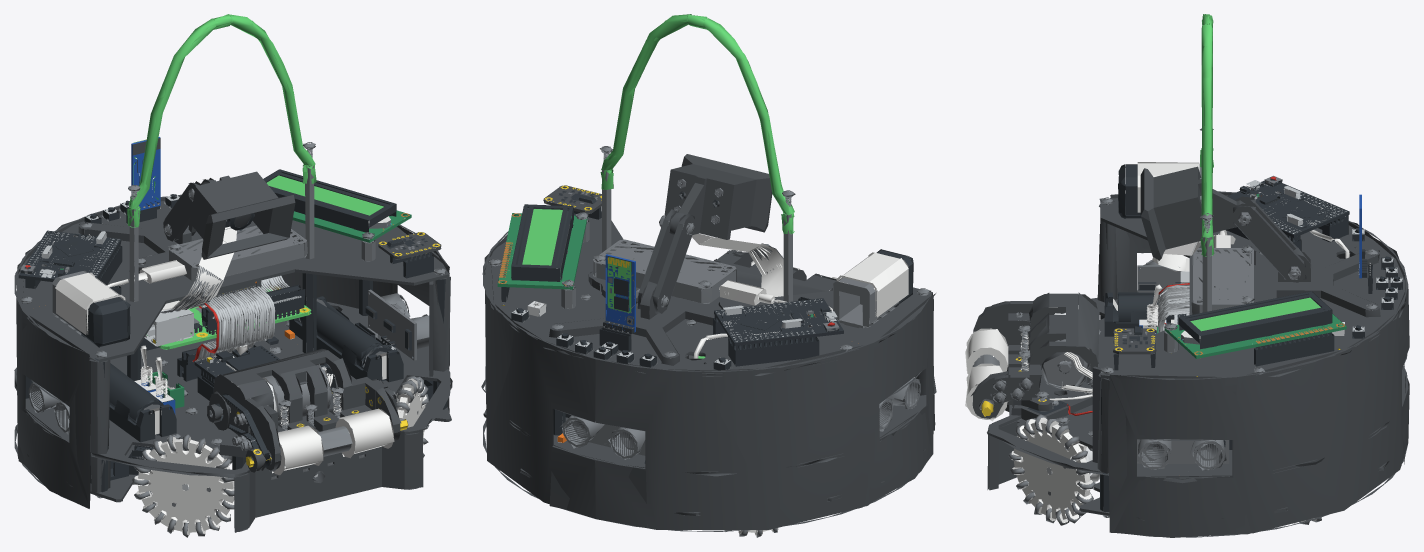
Rendered from xlc-open-2020.glb.
The picture shows the model from 3 angles, left to right: view 1: azimuth 30°, elevation 25°; view 2: azimuth 150°, elevation 25°; view 3: azimuth 270°, elevation 25°; orthographic projection. The views are drawn at different scales.
Visible parts, largest first — view 1: Robot visual; view 2: Robot visual; view 3: Robot visual.
Part boxes in pixels (bbox=[...]): Robot visual: bbox=[14, 14, 452, 537]; Robot visual: bbox=[481, 14, 936, 537]; Robot visual: bbox=[965, 14, 1409, 537].
Bounding box in the file's own units: 0.176 × 0.1924 × 0.1729.
